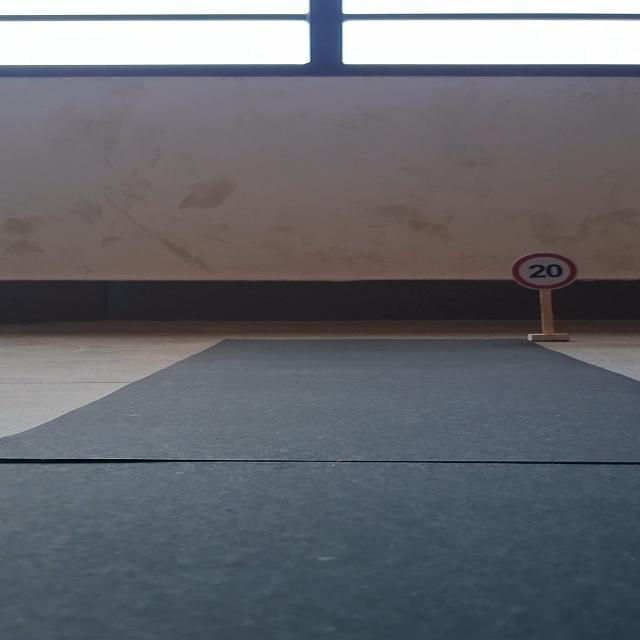Speed20: (511, 250, 581, 294)
